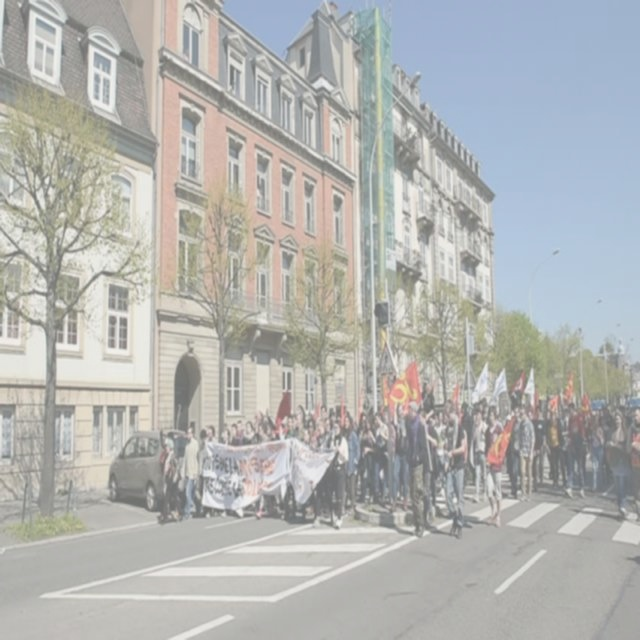pessoa: (440, 397, 467, 536), (280, 486, 358, 528), (405, 398, 428, 538), (483, 404, 506, 528), (312, 416, 336, 528), (606, 408, 629, 520), (328, 417, 350, 531), (202, 488, 280, 520), (418, 409, 438, 531), (391, 398, 412, 514), (157, 442, 185, 526), (180, 421, 202, 523), (564, 402, 587, 499), (342, 413, 362, 518), (254, 419, 274, 522), (371, 409, 389, 507), (518, 407, 536, 502), (471, 408, 488, 506), (358, 414, 376, 506), (598, 402, 616, 494), (626, 406, 640, 524), (588, 410, 606, 494), (528, 404, 544, 494), (546, 410, 564, 488), (367, 405, 379, 507), (434, 406, 447, 498), (382, 409, 396, 494), (461, 401, 474, 491), (509, 406, 522, 494), (356, 410, 368, 502), (558, 403, 570, 493), (264, 406, 288, 444), (542, 407, 554, 480), (319, 402, 335, 454), (577, 403, 592, 456), (625, 404, 634, 492), (158, 430, 176, 472), (504, 413, 514, 487), (466, 418, 476, 488), (306, 408, 320, 455), (290, 402, 306, 442), (182, 479, 200, 514), (250, 408, 264, 451), (442, 407, 448, 500), (466, 394, 489, 418), (303, 416, 318, 452), (496, 404, 514, 434), (486, 404, 505, 432), (290, 412, 306, 445), (241, 418, 259, 446), (318, 402, 332, 438), (252, 180, 266, 216), (552, 397, 570, 424), (483, 418, 489, 498), (542, 404, 548, 479), (233, 418, 248, 446), (336, 404, 346, 442), (447, 424, 453, 482), (284, 414, 298, 438), (350, 411, 360, 442), (229, 423, 241, 448), (252, 409, 264, 434), (191, 429, 203, 452), (203, 425, 218, 443), (228, 76, 238, 102), (232, 426, 245, 446), (526, 404, 540, 422), (221, 426, 233, 446), (180, 38, 190, 62), (328, 406, 337, 431), (219, 414, 227, 442), (451, 399, 463, 417), (199, 429, 208, 452), (276, 422, 288, 439), (618, 402, 626, 427), (420, 378, 428, 402), (182, 424, 190, 448), (302, 427, 312, 445), (428, 412, 437, 428), (204, 419, 210, 442), (434, 406, 439, 431), (345, 403, 351, 421), (516, 404, 522, 416)
